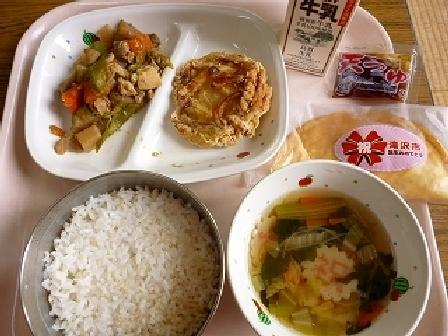Milk: (272, 0, 367, 80)
Rice: (21, 176, 221, 328)
Soups: (223, 170, 440, 335)
cooked food meat with vegetables: (47, 24, 166, 152)
cutlet: (164, 49, 275, 151)
pastry: (275, 102, 446, 200)
